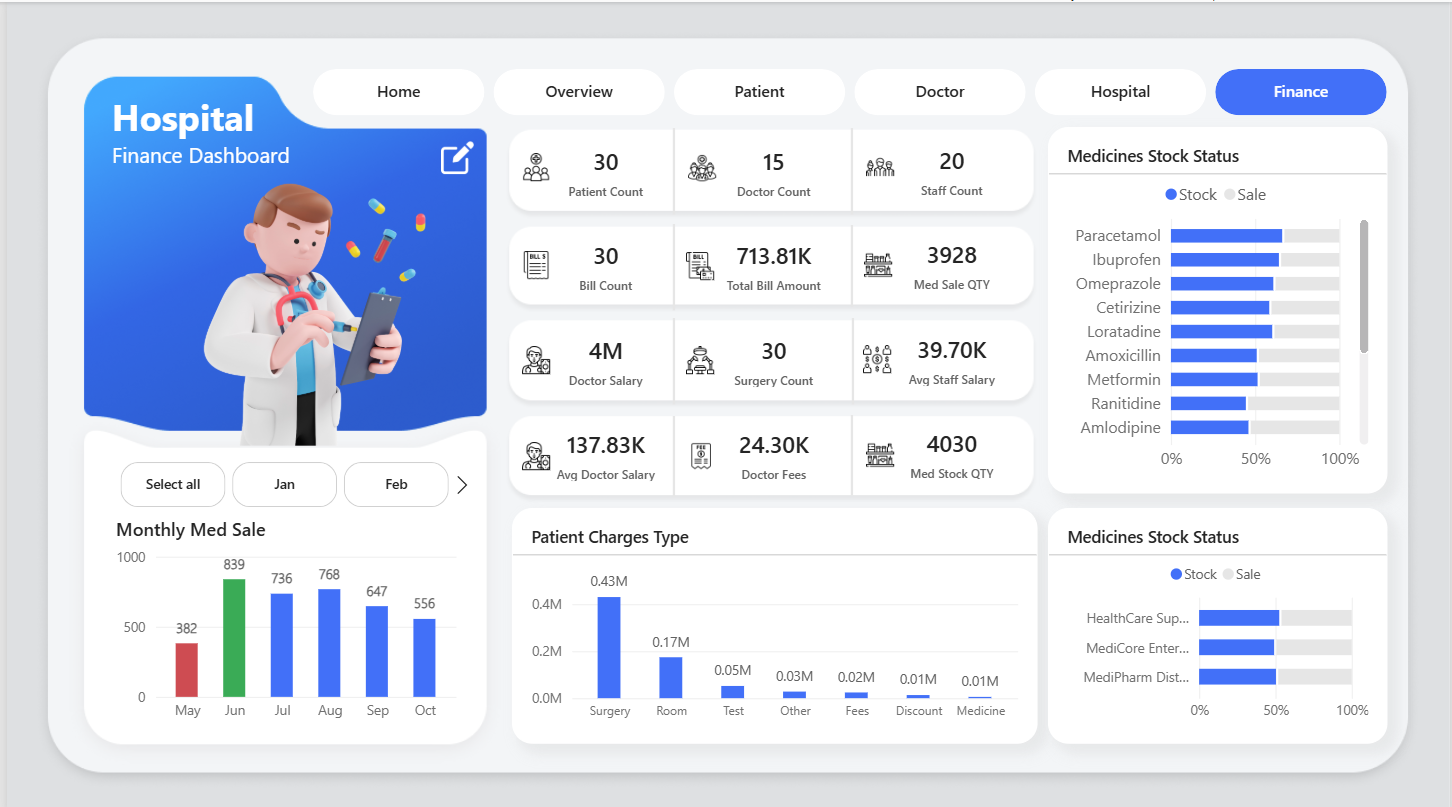

What the dashboard file says about the page in this screenshot:
{"tool":"powerbi","page":{"name":"Finance","canvas":[1280,720],"ordinal":5},"visuals":[{"type":"image","box":[153.2,145.1,245.9,250],"z":0},{"type":"textbox","box":[92.7,79.6,207.6,75.6],"z":1000},{"type":"image","box":[384.8,120.6,29.3,34.6],"z":2000},{"type":"textbox","box":[601.7,0,101.8,99.8],"z":3000},{"type":"advancedSlicerVisual","title":"Ratings","fields":{"Values":["Calendar.Month"]},"box":[80.6,408.2,333.6,40.3],"z":4000},{"type":"clusteredColumnChart","fields":{"Category":["Dynamic Axis.Axis Label"],"Y":["Key Measures.Dynamic Med Sale"]},"box":[80.6,442.5,333.6,214.7],"z":5000},{"type":"clusteredColumnChart","title":"Patient Charges Type","fields":{"Category":["Bills.Charge_Type"],"Y":["Sum(Bills.Value)"]},"box":[447.5,448.5,465.6,208.6],"z":6000},{"type":"hundredPercentStackedBarChart","title":"Medicines Stock Status","fields":{"Y":["Key Measures.Total_Stock_Qty","Key Measures.Total_Med_Sale_Qty"],"Category":["medical_stock_info.name"]},"box":[923.2,110.9,301.4,324.5],"z":7000},{"type":"hundredPercentStackedBarChart","title":"Medicines Stock Status","fields":{"Y":["Key Measures.Total_Stock_Qty","Key Measures.Total_Med_Sale_Qty"],"Category":["medical_stock_info.supplier_name"]},"box":[923.2,448.5,301.4,208.6],"z":8000},{"type":"card","fields":{"Values":["Key Measures.patient_count"]},"box":[469.6,118.9,122,61.5],"z":9000},{"type":"card","fields":{"Values":["Count(patient_info.doctor_id)"]},"box":[618.8,118.9,122,61.5],"z":10000},{"type":"card","fields":{"Values":["Count(staff.staff_id)"]},"box":[777,117.9,122,61.5],"z":11000},{"type":"card","fields":{"Values":["Count(Bills.bill_id)"]},"box":[469.6,202.5,122,61.5],"z":12000},{"type":"card","fields":{"Values":["Key Measures.Total_Bill_Amt"]},"box":[618.8,202.5,122,61.5],"z":13000},{"type":"card","fields":{"Values":["Key Measures.Total_Med_Sale_Qty"]},"box":[777,201.5,122,61.5],"z":14000},{"type":"card","fields":{"Values":["Sum(patient_info.doctor_salary)"]},"box":[469.6,286.2,122,61.5],"z":15000},{"type":"card","fields":{"Values":["Count(patient_info.surgery_appointment_id)"]},"box":[618.8,286.2,122,61.5],"z":16000},{"type":"card","fields":{"Values":["Avg(staff.salary)"]},"box":[777,285.1,122,61.5],"z":17000},{"type":"card","fields":{"Values":["Avg(patient_info.doctor_salary)"]},"box":[469.6,369.7,122,61.5],"z":18000},{"type":"card","fields":{"Values":["Key Measures.doctor_fees"]},"box":[618.8,369.7,122,61.5],"z":19000},{"type":"card","fields":{"Values":["Key Measures.Total_Stock_Qty"]},"box":[777,368.7,122,61.5],"z":20000},{"type":"image","box":[456.6,134,25.2,25.2],"z":21000},{"type":"image","box":[603.7,135.1,25,25],"z":22000},{"type":"image","box":[762,134,25,25],"z":23000},{"type":"image","box":[456.6,220.7,25.2,25.2],"z":24000},{"type":"image","box":[601.7,221.7,25.2,25.2],"z":25000},{"type":"image","box":[759.9,220.6,25,25],"z":26000},{"type":"image","box":[456.6,305.4,25.2,25.2],"z":27000},{"type":"image","box":[601.7,305.4,25.2,25.2],"z":28000},{"type":"image","box":[758.9,304.4,25.2,25.2],"z":29000},{"type":"image","box":[456.6,390,25.2,25.2],"z":30000},{"type":"image","box":[602.7,390,25.2,25.2],"z":31000},{"type":"image","box":[762,389,25.2,25.2],"z":32000},{"type":"shape","box":[580.5,111.9,21.2,76.6],"z":33000},{"type":"shape","box":[580.5,196.5,21.2,76.6],"z":34000},{"type":"shape","box":[580.5,280.2,21.2,76.6],"z":35000},{"type":"shape","box":[580.5,366.9,21.2,71.6],"z":36000},{"type":"shape","box":[738.8,111.9,21.2,76.6],"z":37000},{"type":"shape","box":[738.8,197.5,21.2,72.6],"z":38000},{"type":"shape","box":[739.8,280.2,21.2,76.6],"z":39000},{"type":"shape","box":[738.8,365.9,21.2,71.6],"z":40000},{"type":"pageNavigator","box":[271,59,953,41],"z":40001}]}

Visuals, with their boxes in screenshot pixels (x1, y1, x2, y2), scaled from the page's 1280x720 canvas onto the 1452x807 screenshot:
image: (left=174, top=163, right=453, bottom=443)
textbox: (left=105, top=89, right=341, bottom=174)
image: (left=437, top=135, right=470, bottom=174)
textbox: (left=683, top=0, right=798, bottom=112)
"Ratings" advancedSlicerVisual: (left=91, top=458, right=470, bottom=503)
clusteredColumnChart - Dynamic Axis.Axis Label x Key Measures.Dynamic Med Sale: (left=91, top=496, right=470, bottom=737)
"Patient Charges Type" clusteredColumnChart: (left=508, top=503, right=1036, bottom=736)
"Medicines Stock Status" hundredPercentStackedBarChart: (left=1047, top=124, right=1389, bottom=488)
"Medicines Stock Status" hundredPercentStackedBarChart: (left=1047, top=503, right=1389, bottom=736)
card - Key Measures.patient_count: (left=533, top=133, right=671, bottom=202)
card - Count(patient_info.doctor_id): (left=702, top=133, right=840, bottom=202)
card - Count(staff.staff_id): (left=881, top=132, right=1020, bottom=201)
card - Count(Bills.bill_id): (left=533, top=227, right=671, bottom=296)
card - Key Measures.Total_Bill_Amt: (left=702, top=227, right=840, bottom=296)
card - Key Measures.Total_Med_Sale_Qty: (left=881, top=226, right=1020, bottom=295)
card - Sum(patient_info.doctor_salary): (left=533, top=321, right=671, bottom=390)
card - Count(patient_info.surgery_appointment_id): (left=702, top=321, right=840, bottom=390)
card - Avg(staff.salary): (left=881, top=320, right=1020, bottom=388)
card - Avg(patient_info.doctor_salary): (left=533, top=414, right=671, bottom=483)
card - Key Measures.doctor_fees: (left=702, top=414, right=840, bottom=483)
card - Key Measures.Total_Stock_Qty: (left=881, top=413, right=1020, bottom=482)
image: (left=518, top=150, right=547, bottom=178)
image: (left=685, top=151, right=713, bottom=179)
image: (left=864, top=150, right=893, bottom=178)
image: (left=518, top=247, right=547, bottom=276)
image: (left=683, top=248, right=711, bottom=277)
image: (left=862, top=247, right=890, bottom=275)
image: (left=518, top=342, right=547, bottom=371)
image: (left=683, top=342, right=711, bottom=371)
image: (left=861, top=341, right=889, bottom=369)
image: (left=518, top=437, right=547, bottom=465)
image: (left=684, top=437, right=712, bottom=465)
image: (left=864, top=436, right=893, bottom=464)
shape: (left=659, top=125, right=683, bottom=211)
shape: (left=659, top=220, right=683, bottom=306)
shape: (left=659, top=314, right=683, bottom=400)
shape: (left=659, top=411, right=683, bottom=491)
shape: (left=838, top=125, right=862, bottom=211)
shape: (left=838, top=221, right=862, bottom=303)
shape: (left=839, top=314, right=863, bottom=400)
shape: (left=838, top=410, right=862, bottom=490)
pageNavigator: (left=307, top=66, right=1388, bottom=112)
